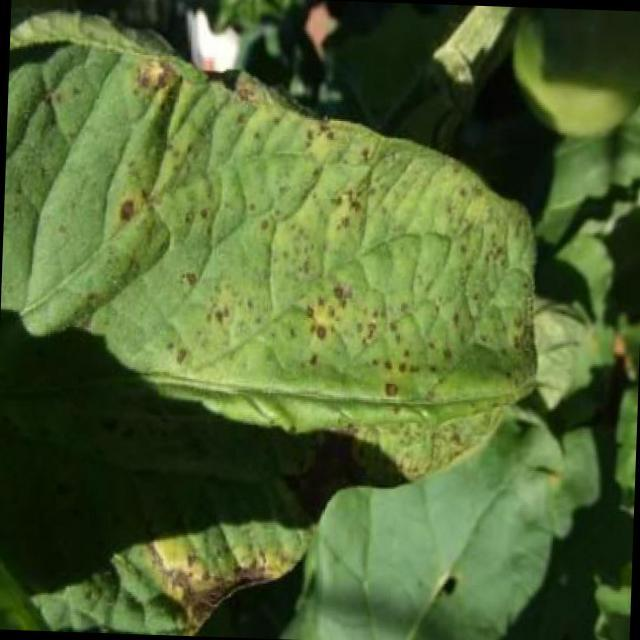Tomato leaf bacterial spot: (1, 35, 545, 475)
